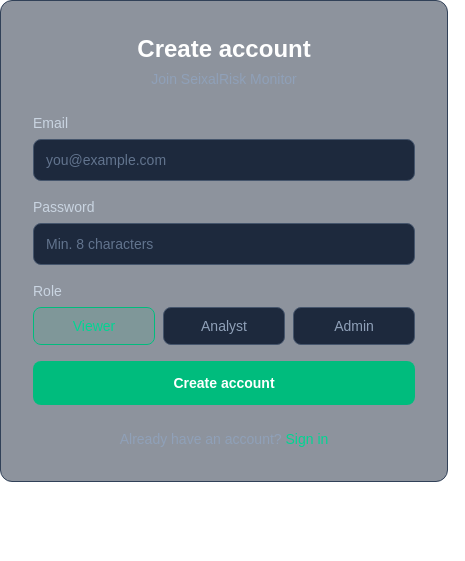
Test: RegisterPage › shows error message on failed registration
The image size is (465, 561).
Type "taken@example.com" into the field labelled "Email" at x=224, y=160, box [33,139,415,181]
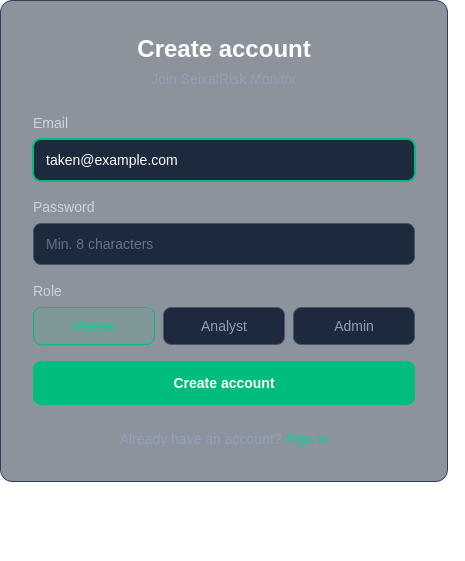
Type "password123" into the password field labelled "Password" at x=224, y=244, box [33,223,415,265]
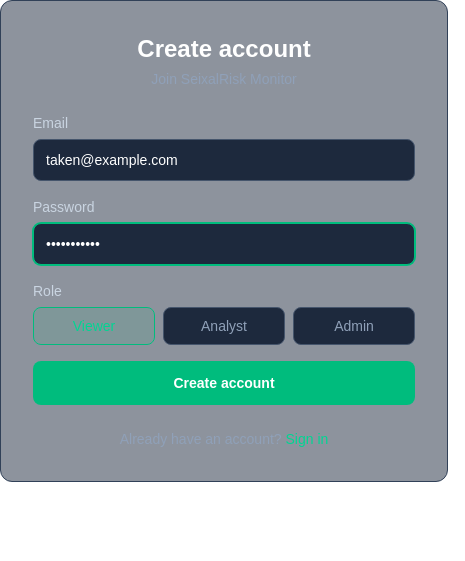
Click the button "Create account" at x=224, y=383, box [33,361,415,405]
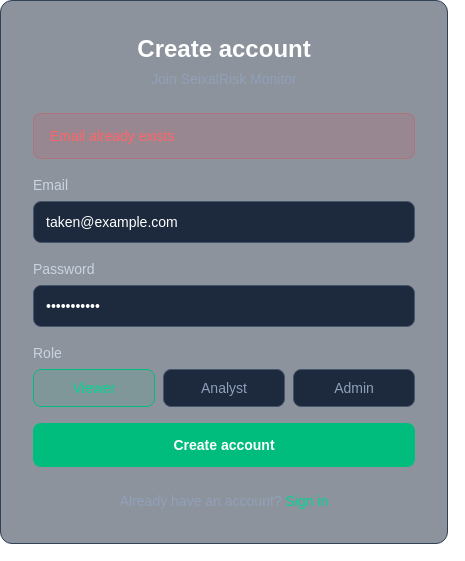
Expected: the text "Email already exists" is shown, [33,113,415,159]
